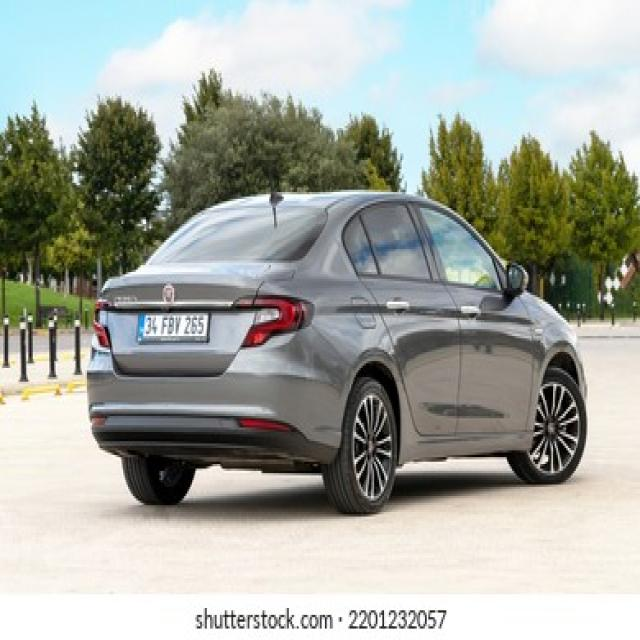fiat: (160, 284, 183, 302)
